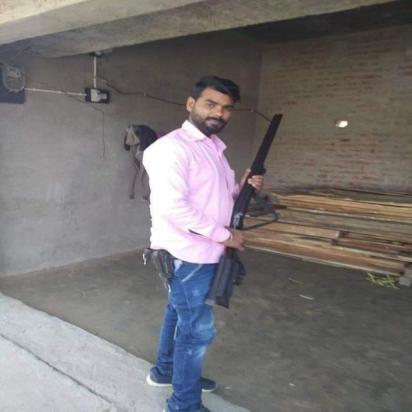Gun: (202, 112, 286, 312)
